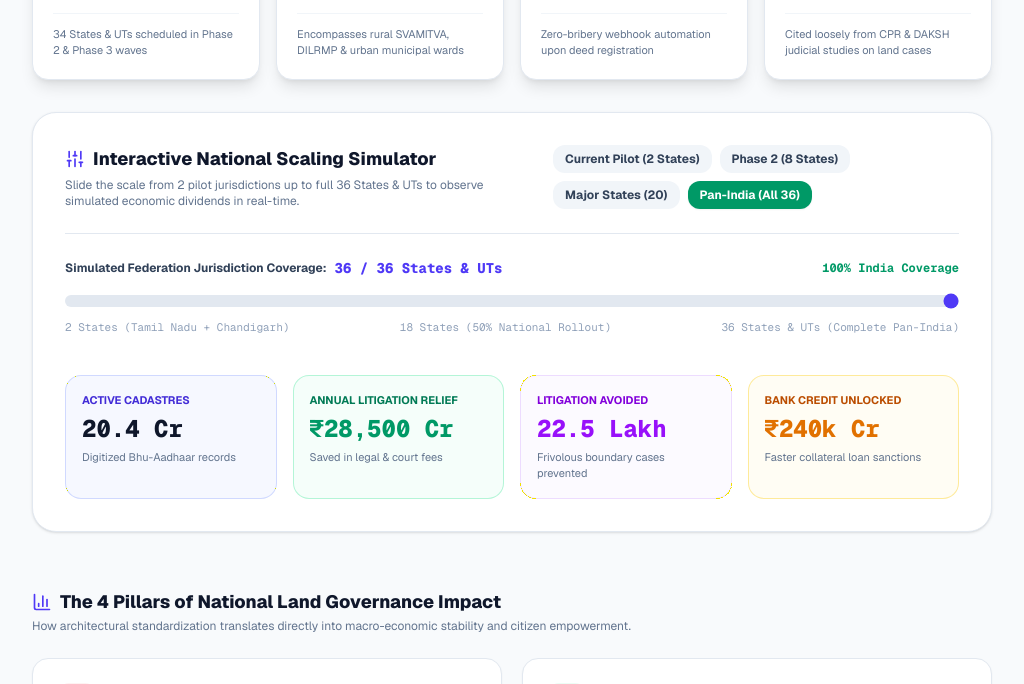
National Economic Impact & DPI Case Dashboard › supports dragging or updating the simulation range slider
The width and height of the screenshot is (1024, 684).
(page scrolled)
Set the slider with test id "scaling-slider" to "18": (486, 300) [65, 294, 959, 306]
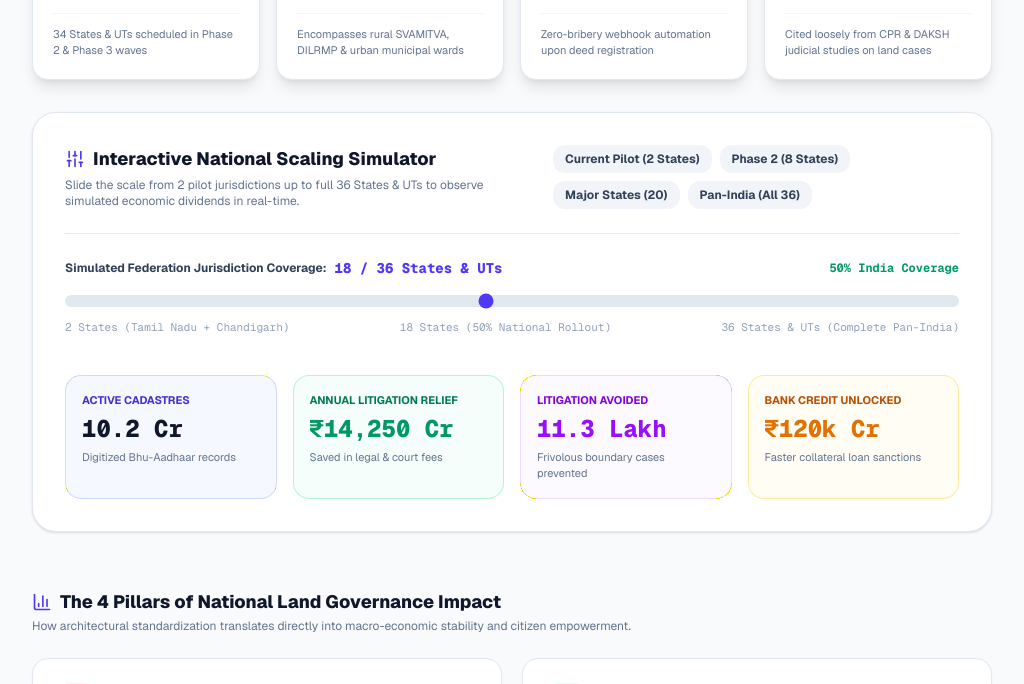
Now the text "18 / 36 States & UTs" is shown, box [334, 258, 502, 278]
Now the text "50% India Coverage" is shown, box [829, 260, 959, 276]
Now the text "10.2 Cr" is shown, box [82, 412, 183, 444]
